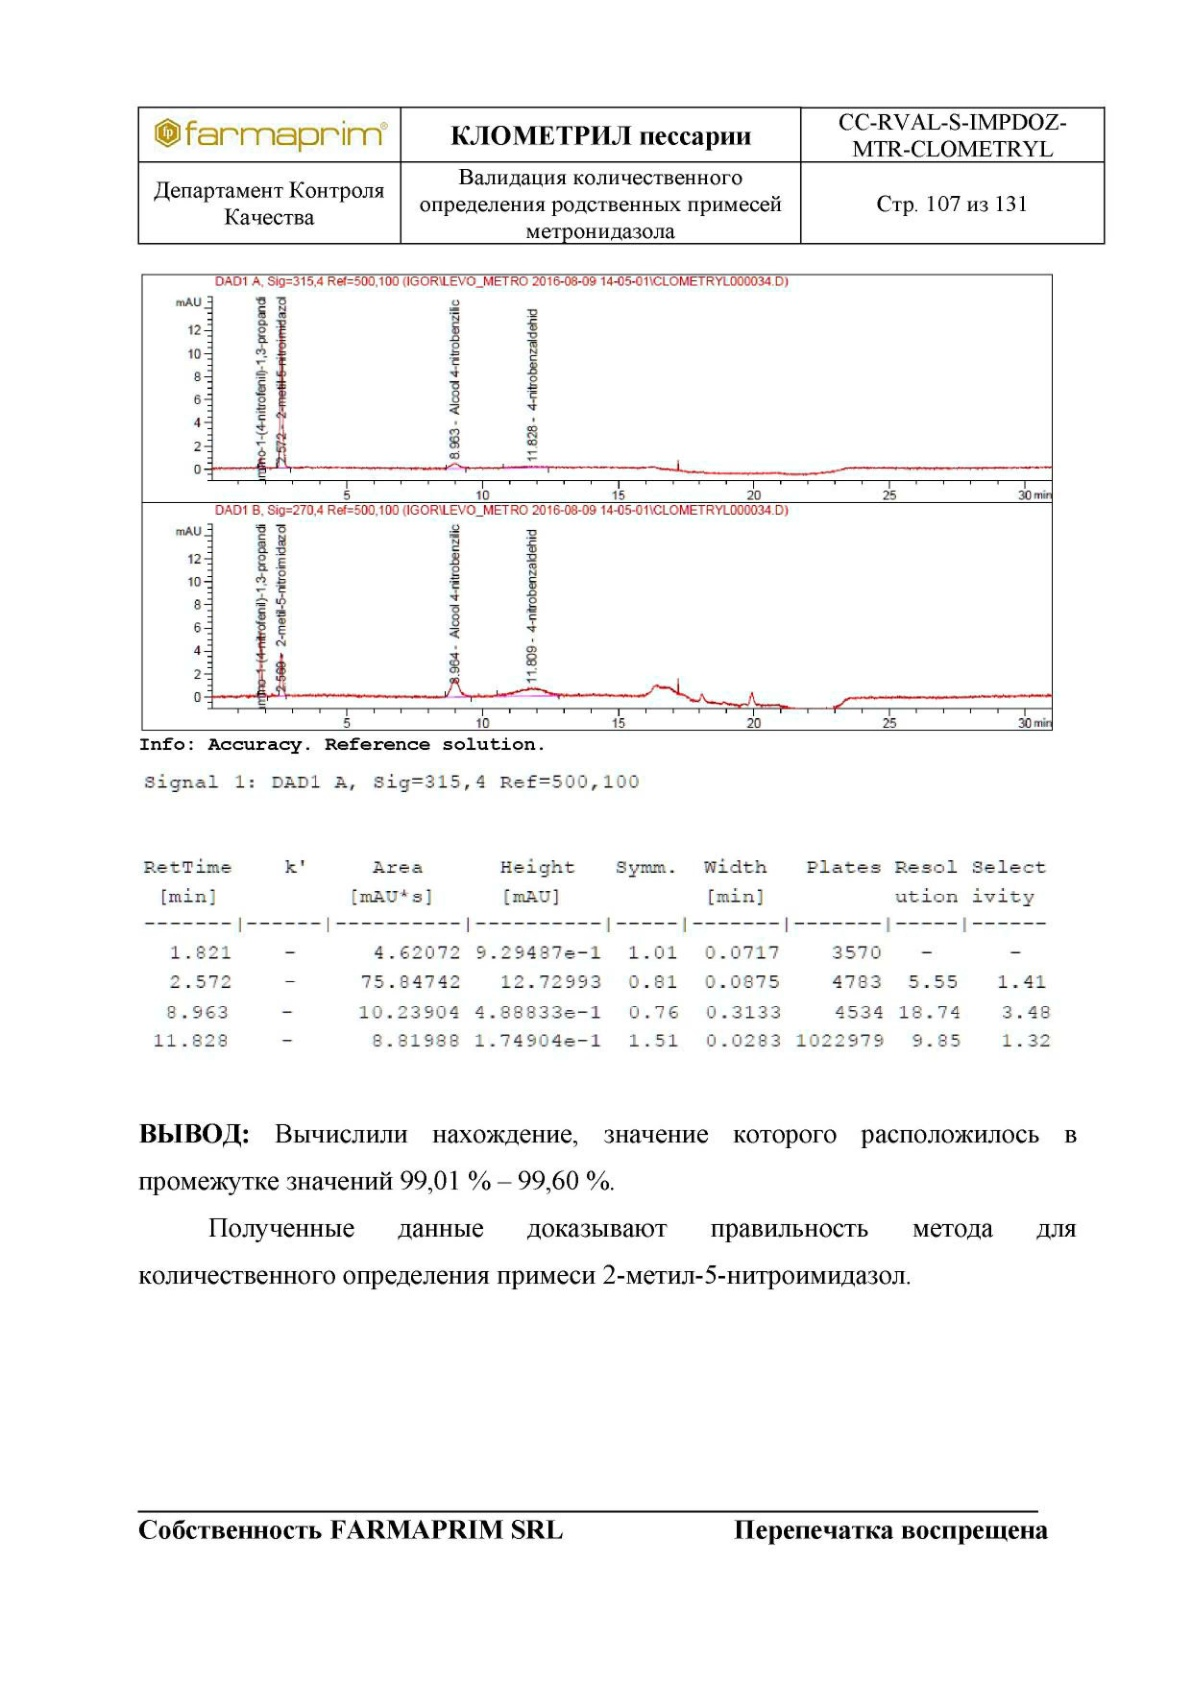full_lined: (137, 104, 1106, 246)
partial_lined: (141, 855, 1053, 1053)
